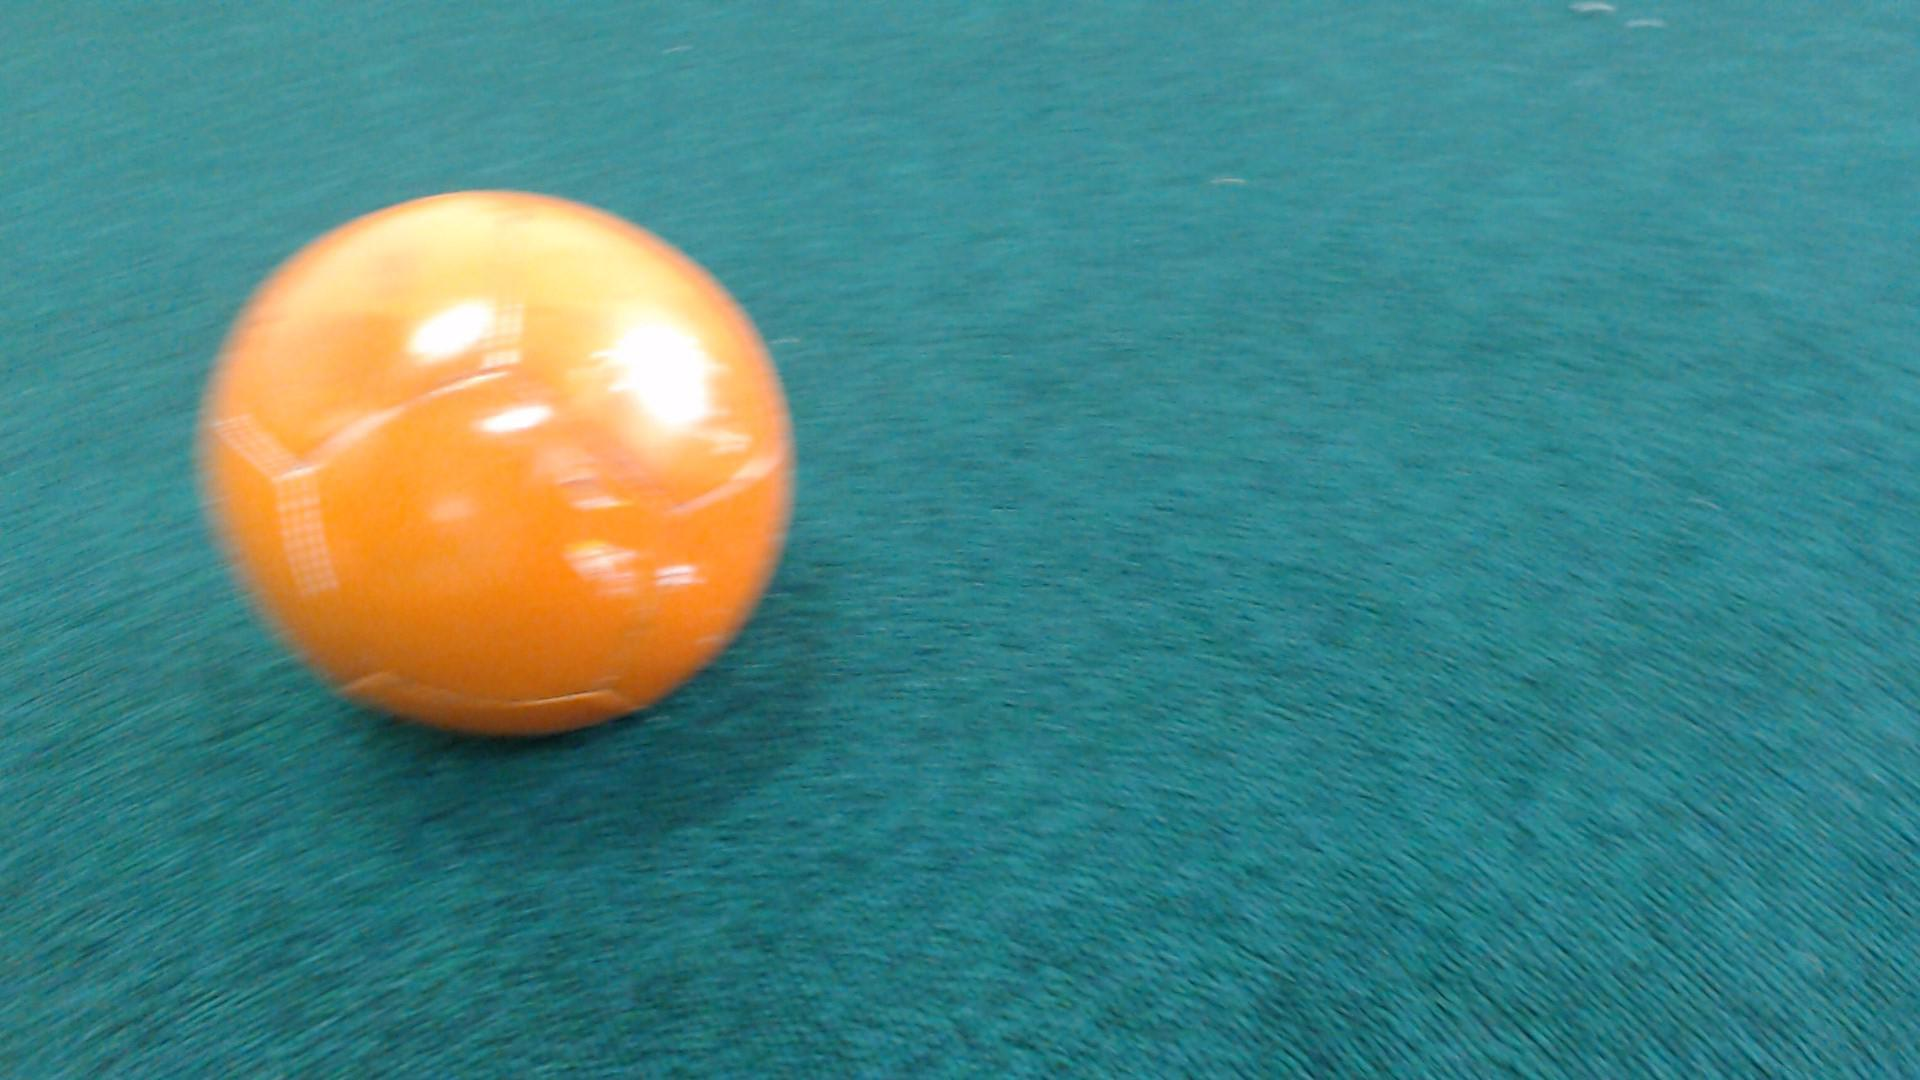bola: (191, 162, 819, 793)
